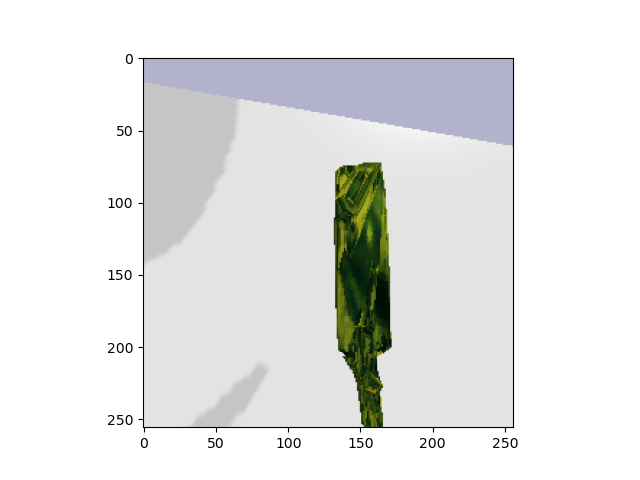v249b387_108: (322, 160, 412, 427)
